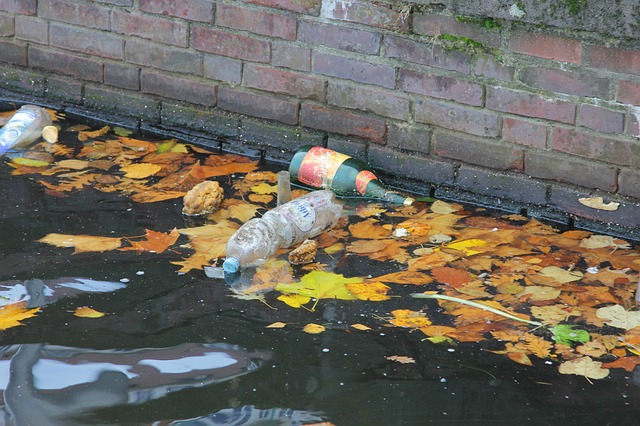bottle: (288, 144, 418, 210)
plastic_bottle: (218, 188, 350, 274)
